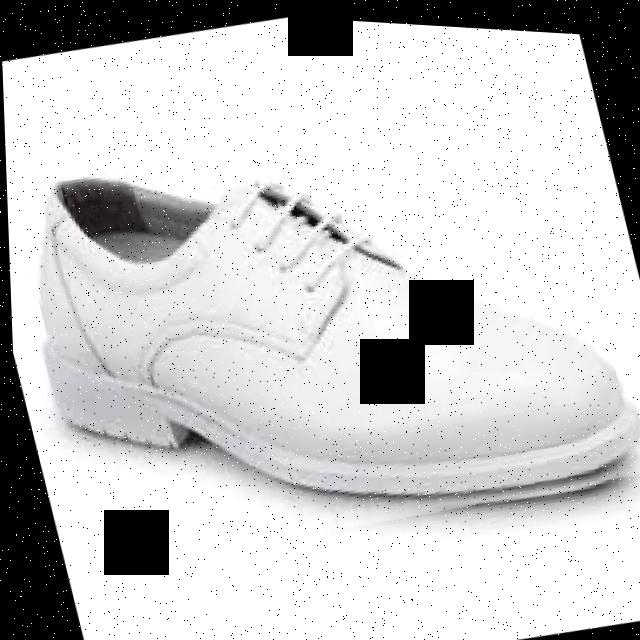shoe: (2, 66, 640, 600)
